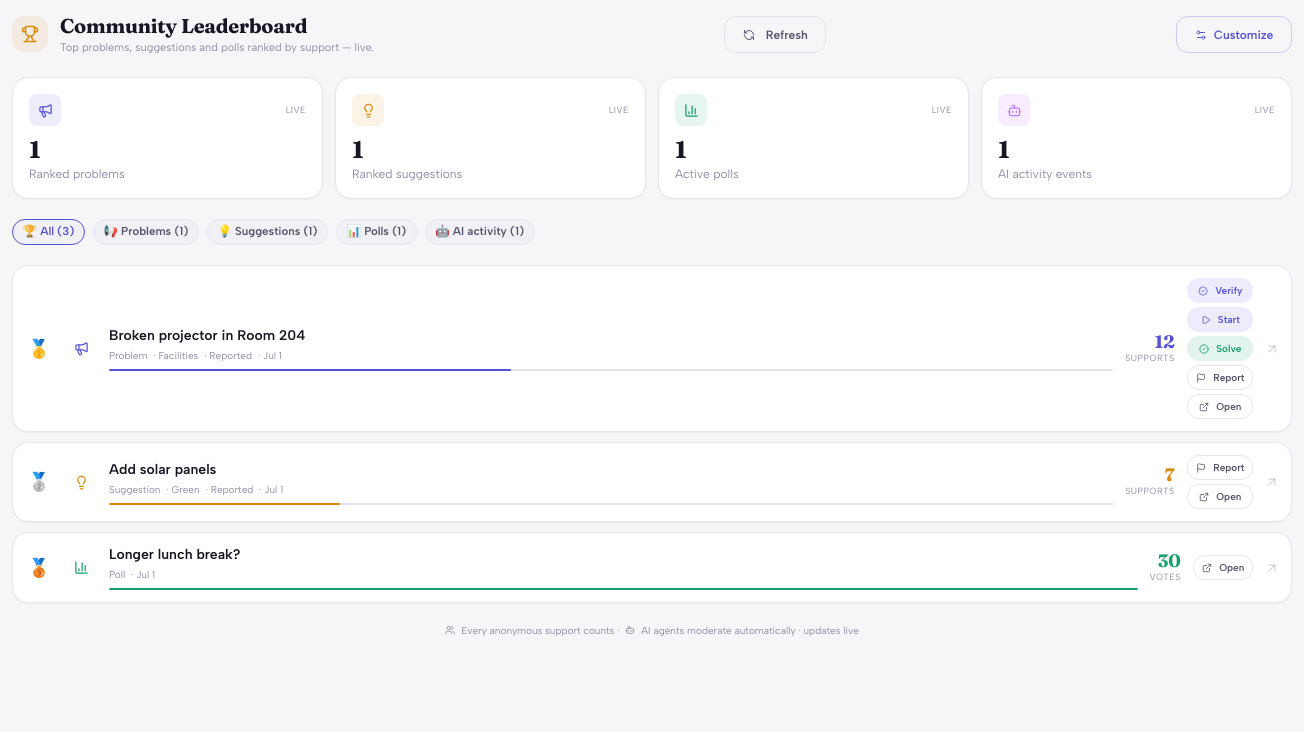
it: AdminLeaderboard — tabs and lists › switches to the problems tab and filters the list
This screenshot has width=1304, height=732.
Expected: the text "Broken projector in Room 204" is shown, [109,327,305,344]
Step 1. Click the button "📢 Problems (1)" → (146, 232), box [93,218,199,245]
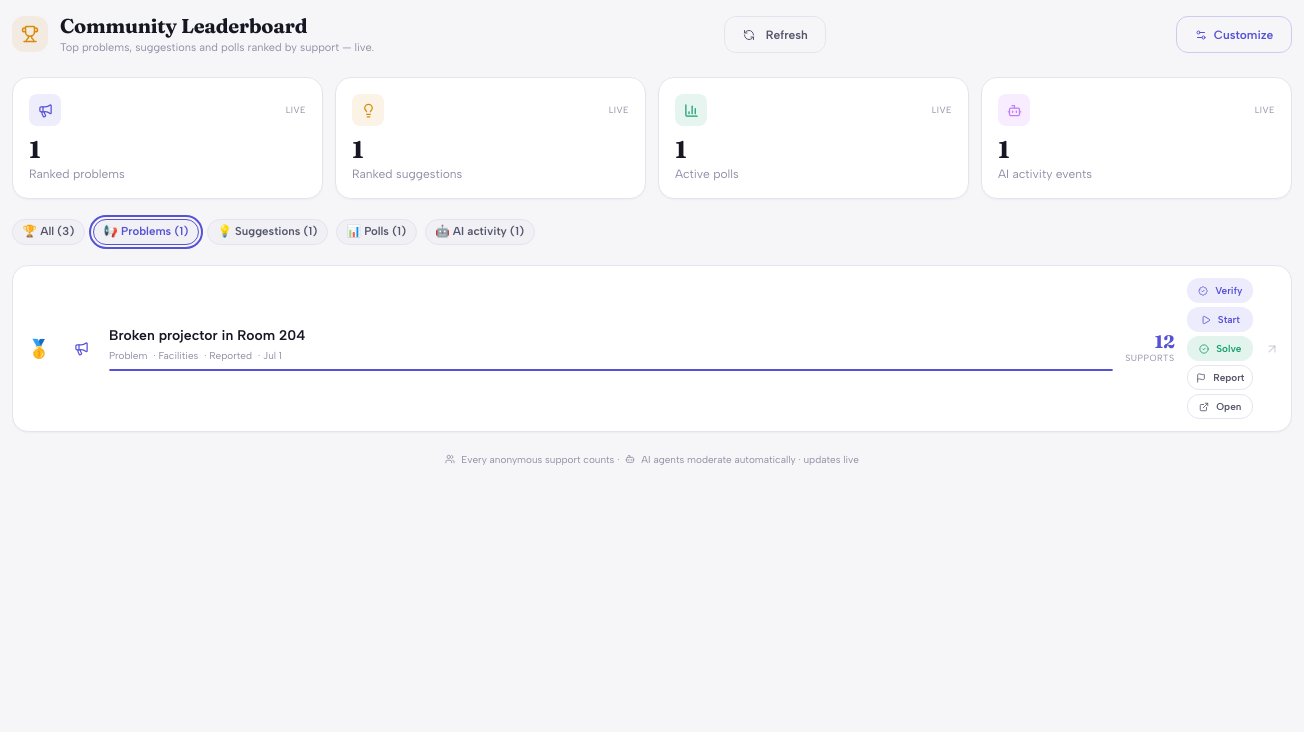
Expected: the text "Broken projector in Room 204" is shown, [109,327,305,344]
Expected: the text "Add solar panels" is gone
